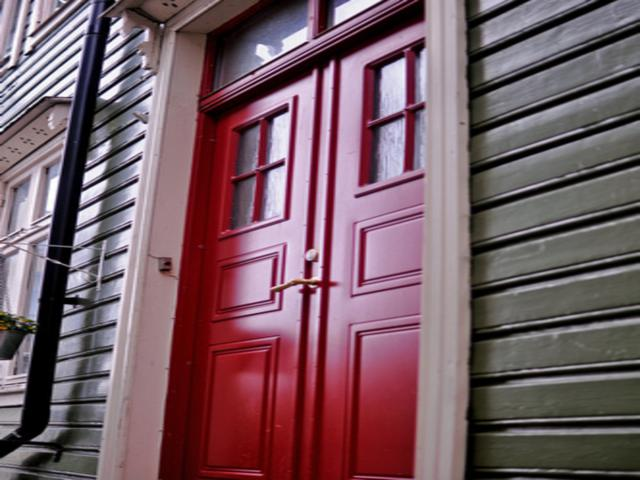Door-handle: (266, 277, 318, 292)
